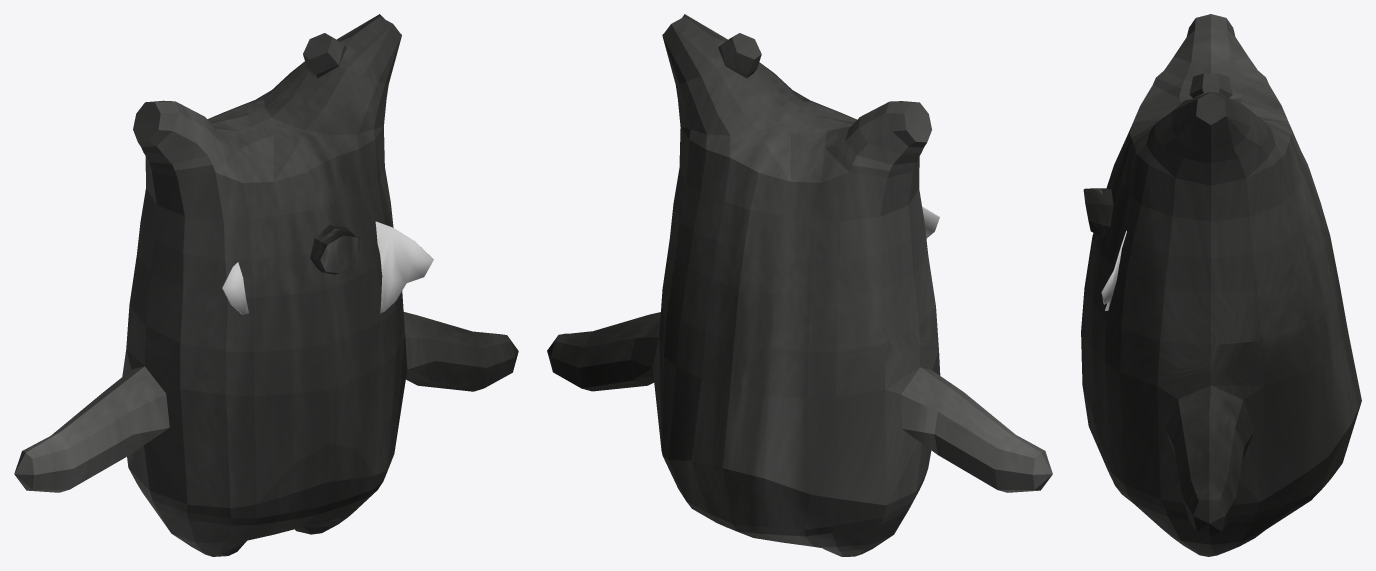
The model's file is frame_0007.obj.
The picture shows the model from 3 angles, left to right: view 1: azimuth 30°, elevation 25°; view 2: azimuth 150°, elevation 25°; view 3: azimuth 270°, elevation 25°; orthographic projection.
Parts seen in each view (by area): view 1: korok, leaf, nose; view 2: korok; view 3: korok, nose, leaf.
Boxes of the visible parts, x1=… form: korok: x1=14, y1=14, x2=518, y2=556; leaf: x1=222, y1=221, x2=433, y2=314; nose: x1=310, y1=225, x2=361, y2=274; korok: x1=547, y1=14, x2=1052, y2=556; korok: x1=1081, y1=14, x2=1361, y2=556; nose: x1=1083, y1=188, x2=1113, y2=237; leaf: x1=1101, y1=230, x2=1126, y2=310.
Bounding box in the file's own units: 2.49 × 2.35 × 1.21.
